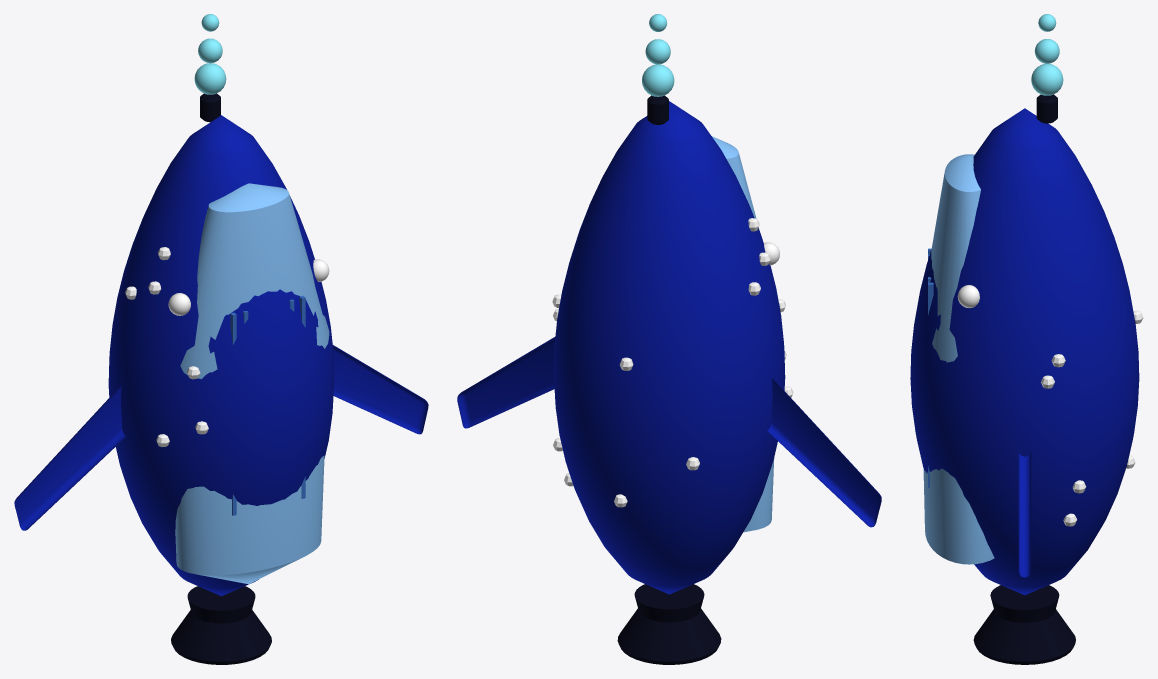
File: Rocket_34_SpaceWhale.obj
The picture shows the model from 3 angles, left to right: view 1: azimuth 30°, elevation 25°; view 2: azimuth 150°, elevation 25°; view 3: azimuth 270°, elevation 25°; orthographic projection. The views are drawn at different scales.
Parts seen in each view (by area): view 1: R34_Body, R34_Belly, R34_Nozzle, R34_Flipper_2, R34_Flipper, R34_Spout; view 2: R34_Body, R34_Nozzle, R34_Flipper_2, R34_Flipper, R34_Belly, R34_Spout; view 3: R34_Body, R34_Belly, R34_Nozzle, R34_Flipper, R34_Spout, R34_Blowhole, R34_Spout_2, R34_Eye.
Part boxes in pixels (bbox=[...]): R34_Body: bbox=[108, 115, 334, 596]; R34_Belly: bbox=[175, 183, 329, 584]; R34_Nozzle: bbox=[171, 586, 271, 664]; R34_Flipper_2: bbox=[14, 384, 126, 530]; R34_Flipper: bbox=[332, 345, 428, 434]; R34_Spout: bbox=[194, 63, 226, 94]; R34_Body: bbox=[553, 101, 785, 594]; R34_Nozzle: bbox=[617, 584, 721, 664]; R34_Flipper_2: bbox=[767, 377, 881, 527]; R34_Flipper: bbox=[457, 337, 555, 428]; R34_Belly: bbox=[712, 136, 779, 532]; R34_Spout: bbox=[642, 64, 674, 96]; R34_Body: bbox=[910, 108, 1139, 595]; R34_Belly: bbox=[923, 154, 994, 564]; R34_Nozzle: bbox=[973, 585, 1075, 664]; R34_Flipper: bbox=[1018, 451, 1031, 577]; R34_Spout: bbox=[1031, 63, 1063, 95]; R34_Blowhole: bbox=[1036, 94, 1057, 123]; R34_Spout_2: bbox=[1034, 39, 1059, 63]; R34_Eye: bbox=[957, 285, 979, 308].
Bounding box in the file's own units: 5.38 × 7.75 × 2.6.
